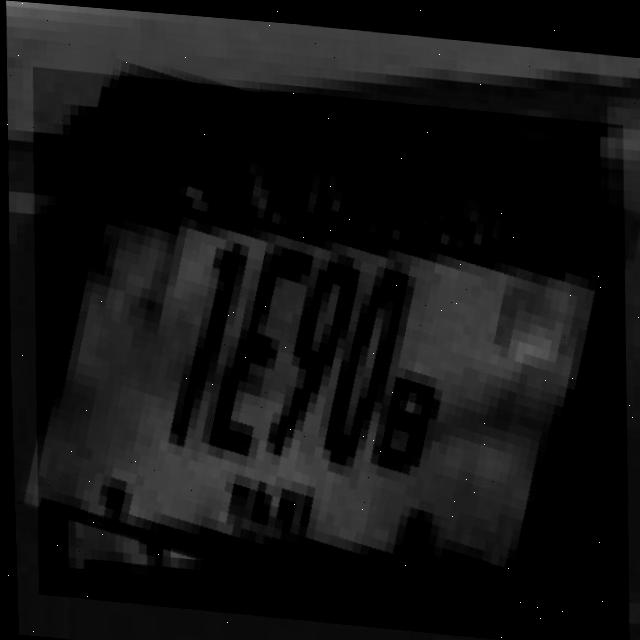LicensePlate: (23, 65, 635, 640)
